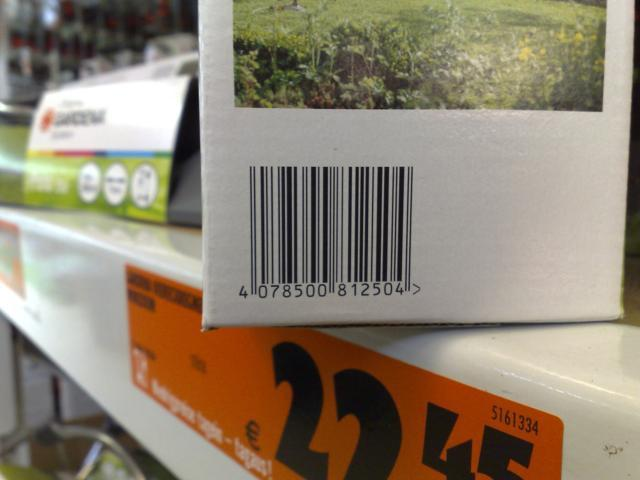Barcode: (225, 154, 436, 314)
